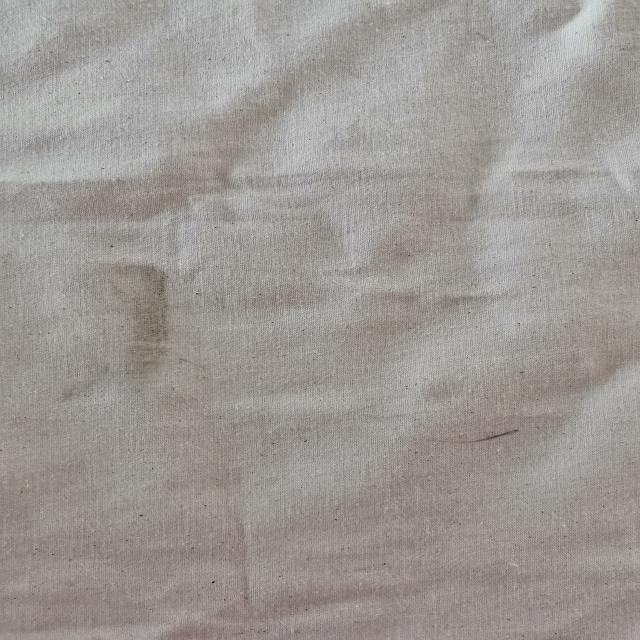taaaches: (88, 257, 176, 390), (412, 426, 526, 448), (38, 382, 104, 405), (174, 353, 217, 372)
